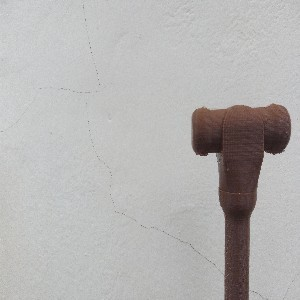palu: (191, 102, 292, 300)
